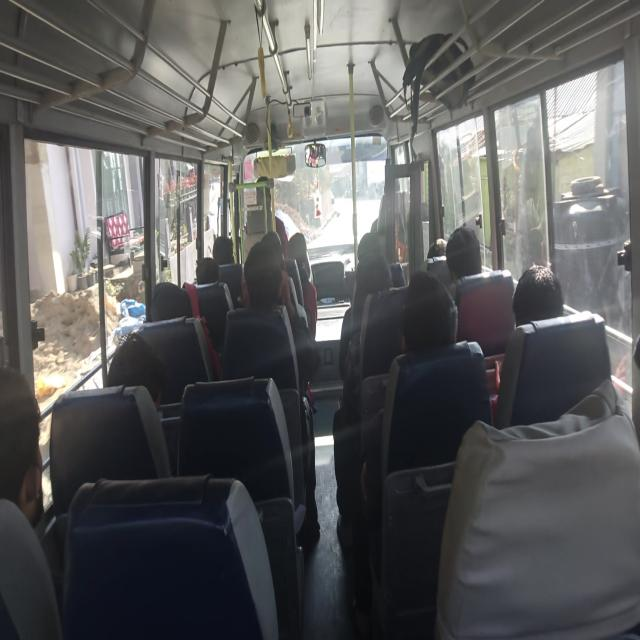person: (0, 339, 76, 557), (411, 286, 492, 402), (514, 268, 572, 340), (120, 328, 163, 412), (365, 246, 415, 315), (246, 249, 280, 303), (154, 290, 188, 331), (216, 234, 244, 282), (450, 230, 475, 282), (252, 226, 280, 266), (424, 235, 456, 263), (289, 227, 307, 269), (356, 227, 390, 249), (195, 248, 213, 276)
